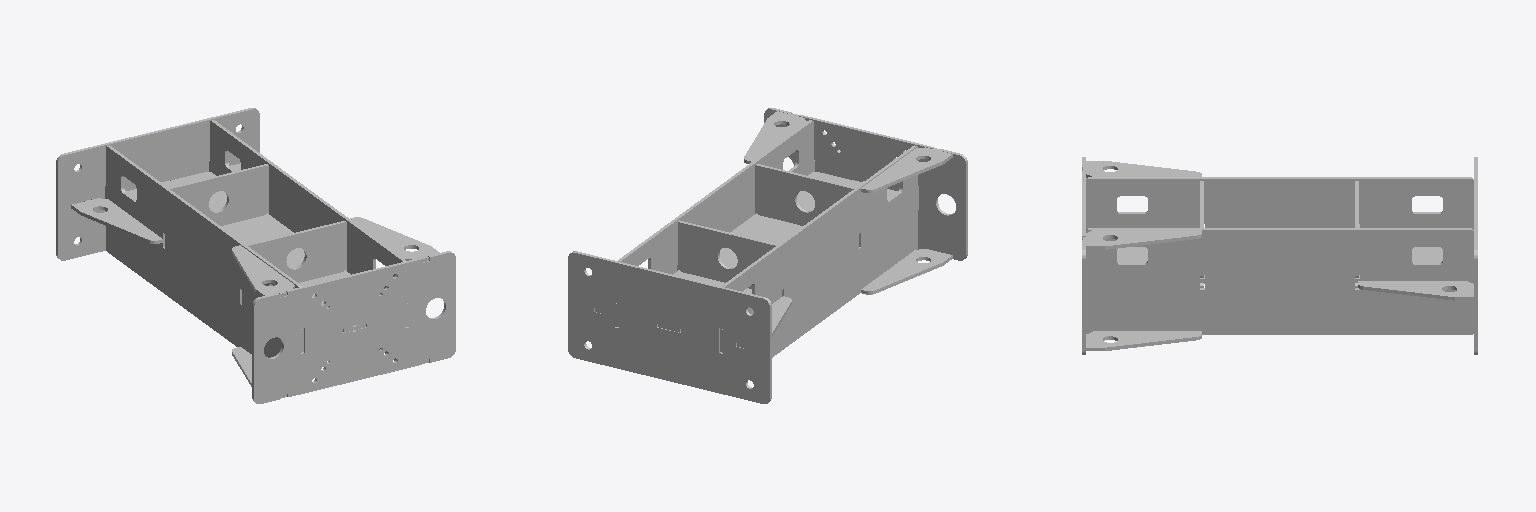
Rendered from FAIRWorkpiece.obj.
The picture shows the model from 3 angles: view 1: azimuth 30°, elevation 25°; view 2: azimuth 150°, elevation 25°; view 3: azimuth 270°, elevation 25°; orthographic projection.
Visible parts, largest first — view 1: FAIRWorkpiece; view 2: FAIRWorkpiece; view 3: FAIRWorkpiece.
Part boxes in pixels (x1,y1,x2,y2): FAIRWorkpiece: (56, 108, 455, 403); FAIRWorkpiece: (568, 108, 967, 403); FAIRWorkpiece: (1082, 157, 1477, 354).
Bounding box in the file's own units: 0.3 × 0.15 × 0.51.